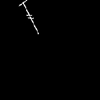treble_crochet: (20, 0, 38, 33)
